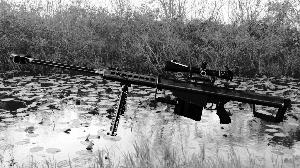sniper: (9, 49, 291, 144)
